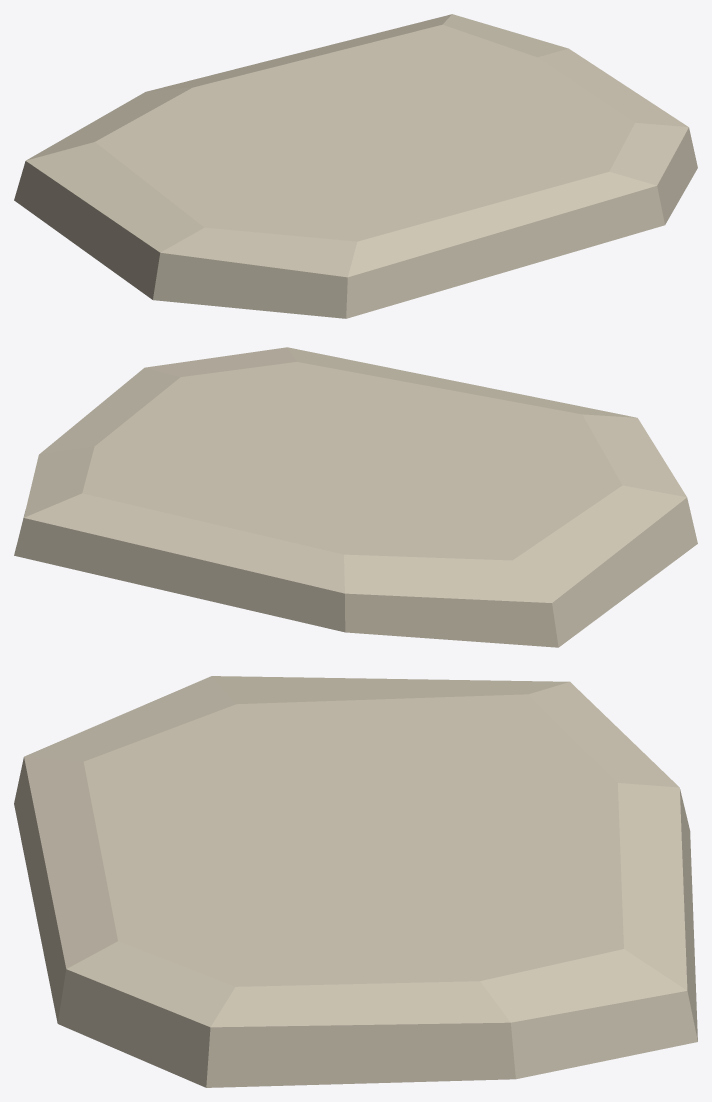
File: SM_PathSlab.fbx
3 views of the same model, one above another, from view 1: azimuth 30°, elevation 25°; view 2: azimuth 150°, elevation 25°; view 3: azimuth 270°, elevation 25° (orthographic). The views are drawn at different scales.
Parts seen in each view (by area): view 1: SM_PathSlab; view 2: SM_PathSlab; view 3: SM_PathSlab.
Part boxes in pixels (left/top/right/bottom): SM_PathSlab: left=14, top=14, right=697, bottom=318; SM_PathSlab: left=14, top=347, right=697, bottom=647; SM_PathSlab: left=14, top=676, right=697, bottom=1087.
Size of the model in its own units: 88.43 by 71.2 by 10.05.
